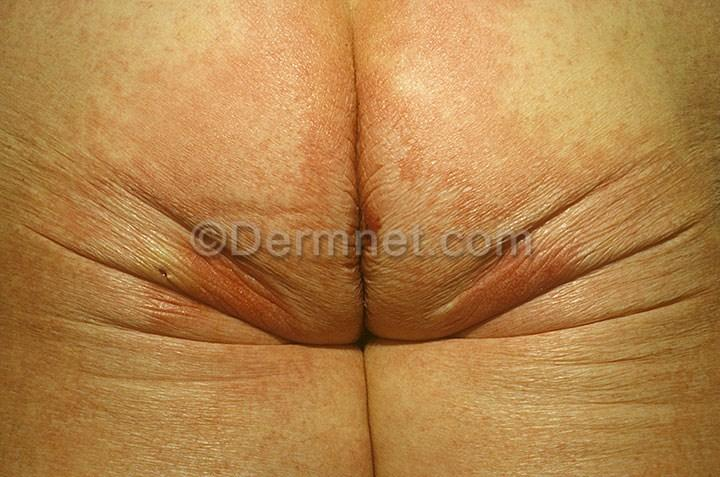Eczema: (0, 158, 155, 385), (565, 165, 701, 351), (167, 254, 349, 389), (368, 266, 555, 388), (204, 45, 336, 203), (358, 28, 473, 209)
